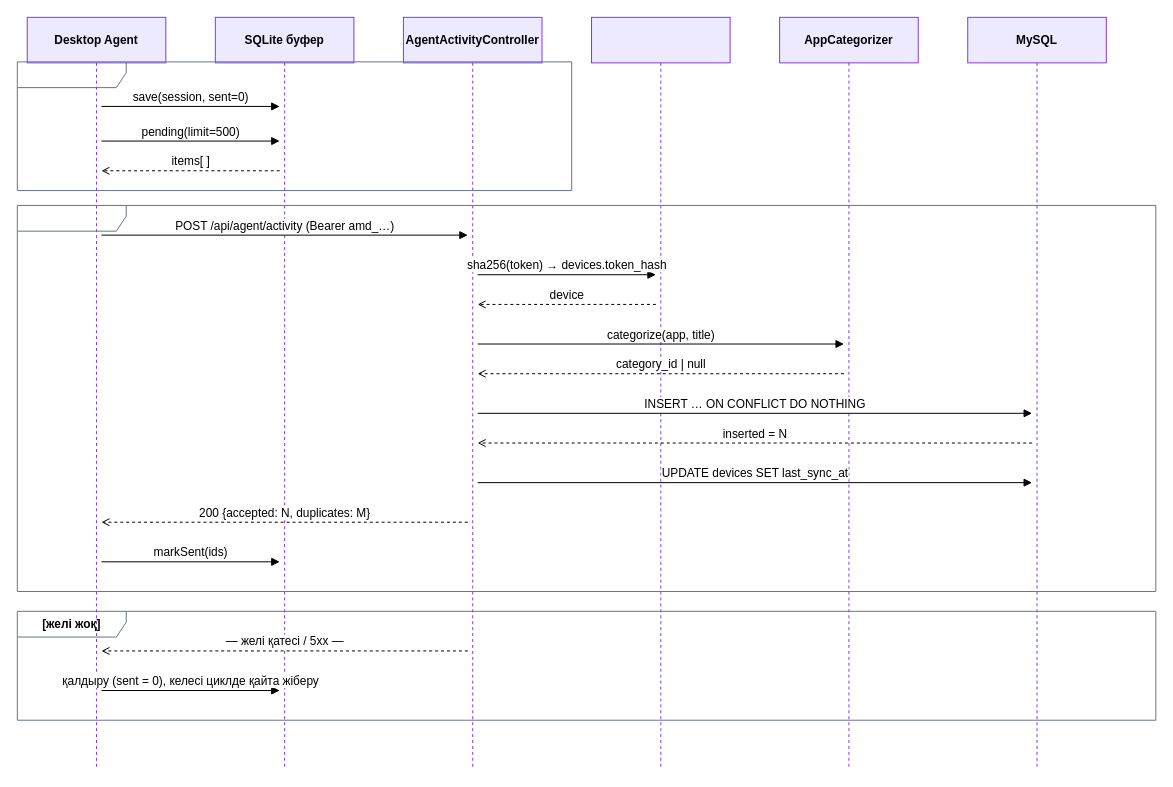
Image size: 1173x787. Some labels were removed from this diagram. The box of each missing label's shape, as (x1, y1, x2, y2) in pixels:
alt [желі бар]: (16, 204, 1156, 592)
DeviceTokenAuth: (591, 16, 730, 770)
loop [әр 60 с]: (16, 61, 572, 191)
